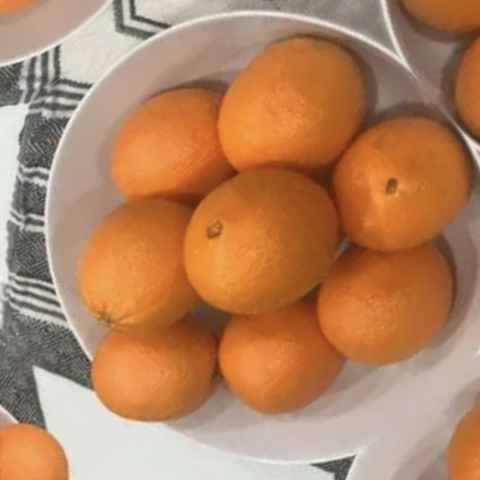orange: (146, 132, 370, 353), (181, 8, 402, 224), (58, 48, 275, 267), (285, 204, 480, 412), (290, 87, 480, 296), (60, 280, 241, 462)
